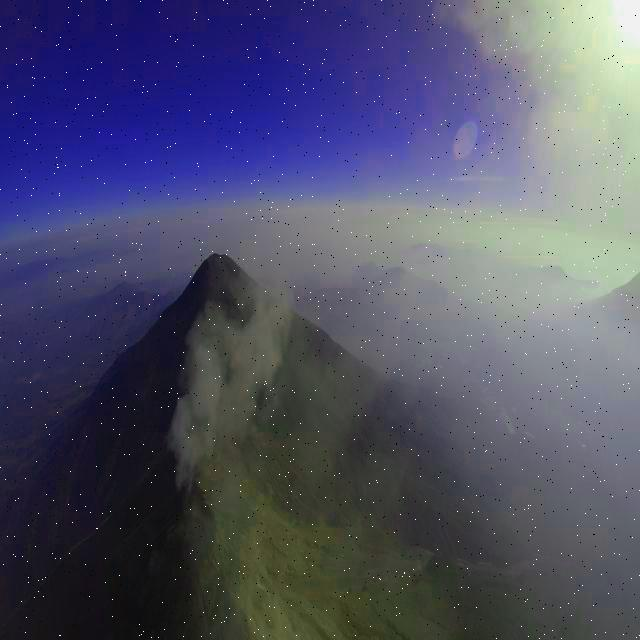Plume: (433, 0, 640, 174), (166, 290, 298, 484)
